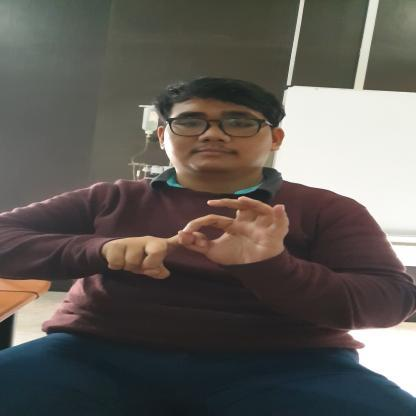Q: (104, 194, 290, 282)
